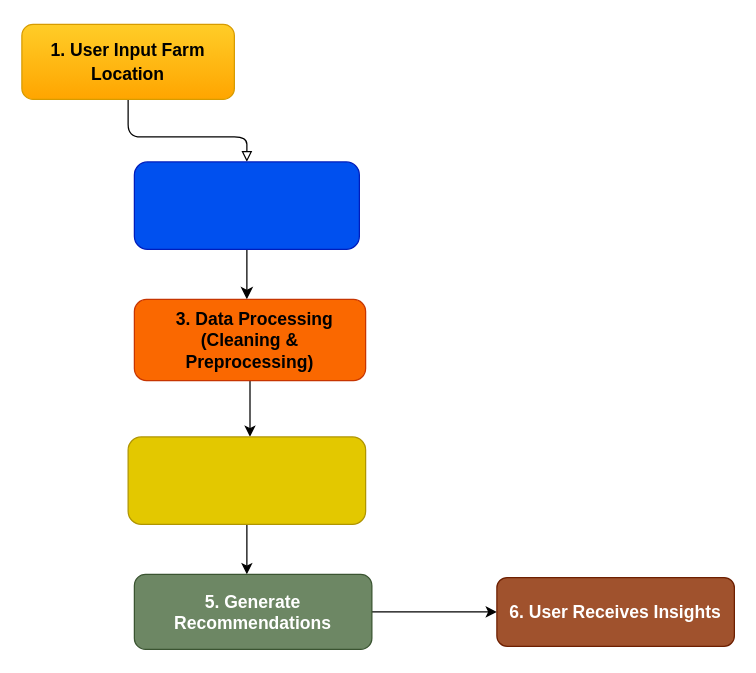
Some shapes in this 756 by 673 pixel diagram are drawn without their labels. Each missing label, with the centre of its shape:
"2. Data Collection (Weather, Soil, Elevation APIs)" belongs at (246,205).
"4. Machine Learning Analysis (Crop, Disease Prediction)" belongs at (246,480).
